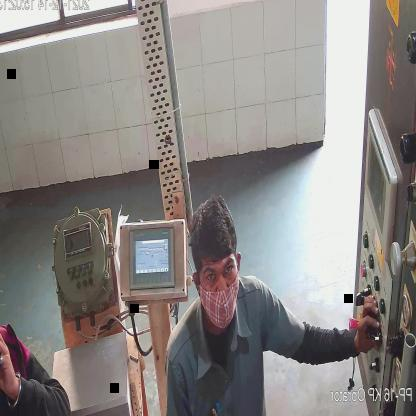no_goggles: (200, 257, 236, 291)
